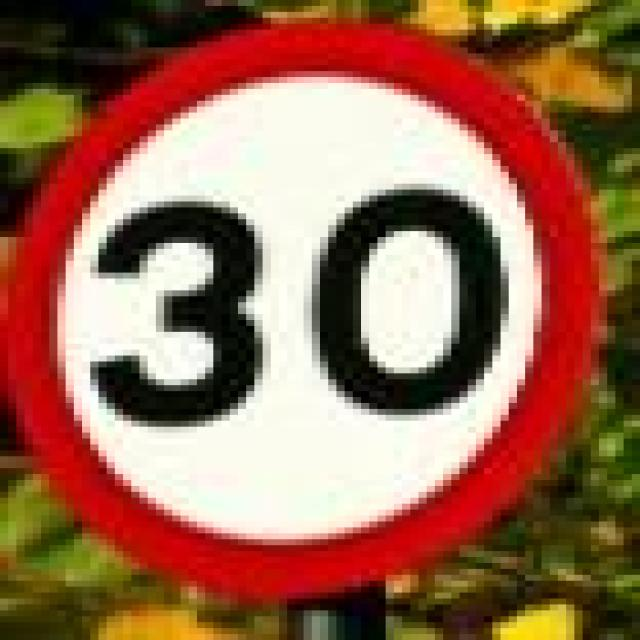speed_limit_30: (0, 12, 591, 604)
